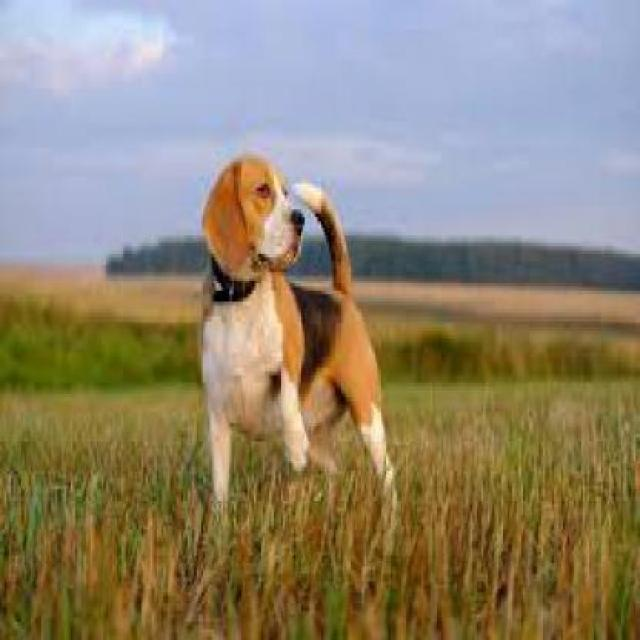Dog: (198, 152, 402, 517)
